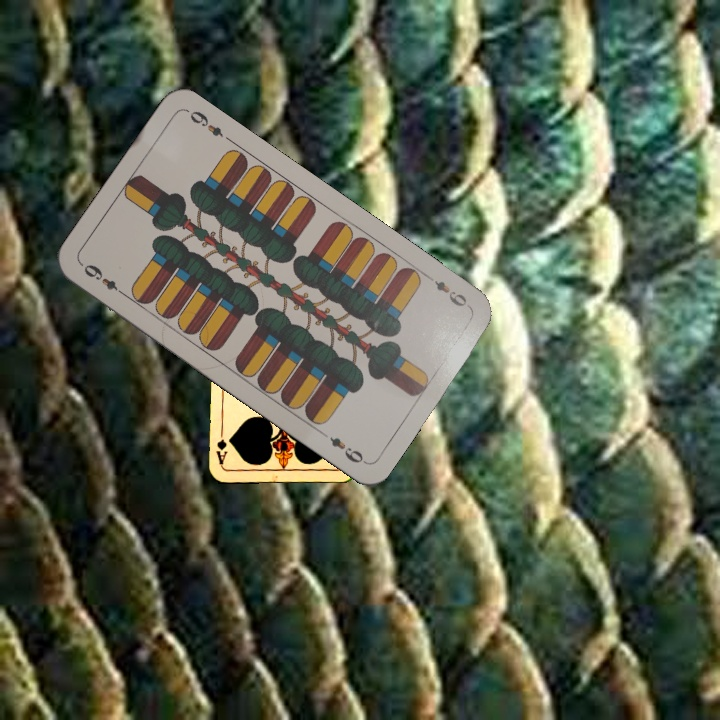E9: (79, 260, 129, 299), (429, 276, 473, 311)
